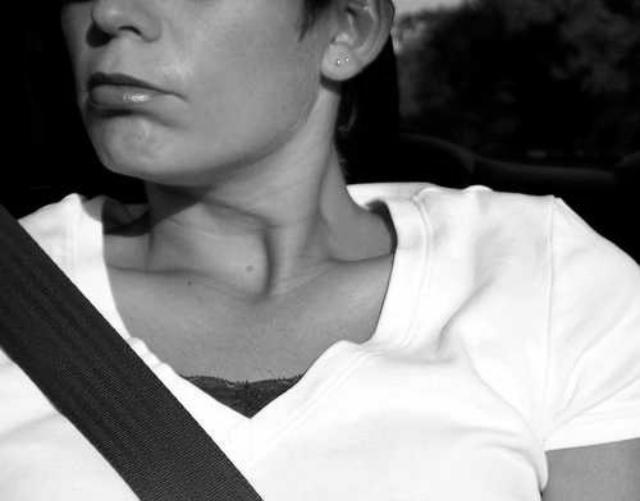Seatbelt: (0, 198, 267, 501)
